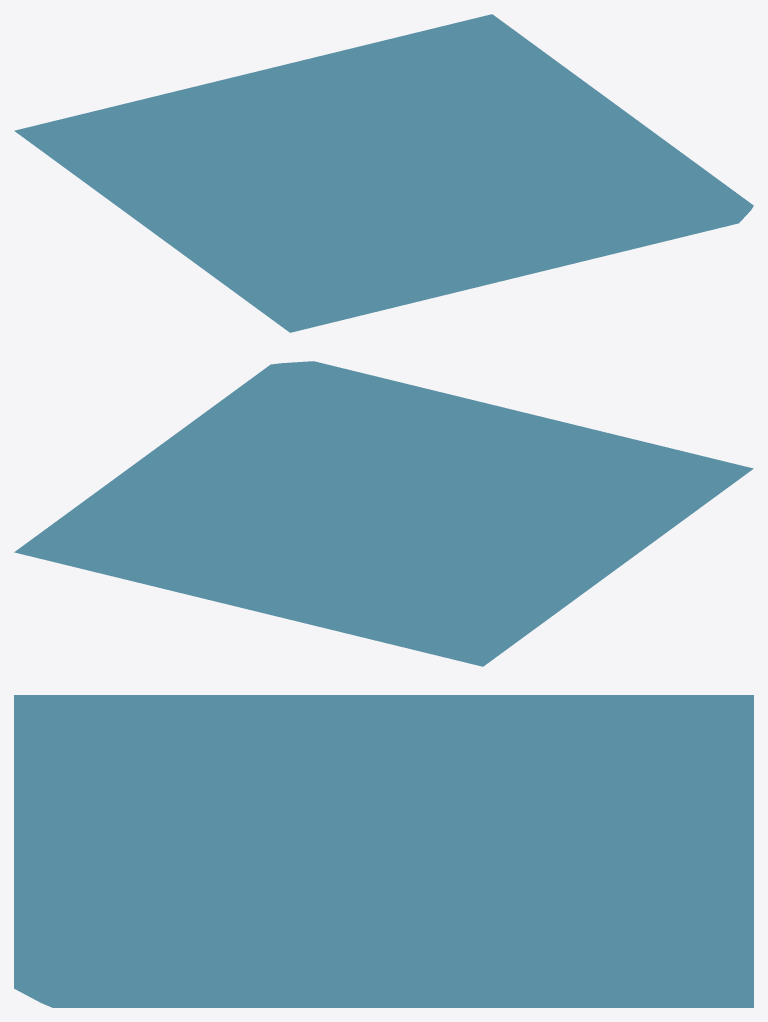
Rendered from nature_10_3.glb.
3 views of the same model, one above another, from view 1: azimuth 30°, elevation 25°; view 2: azimuth 150°, elevation 25°; view 3: azimuth 270°, elevation 25° (orthographic). The views are drawn at different scales.
Parts seen in each view (by area): view 1: water; view 2: water; view 3: water.
Boxes of the visible parts, x1,y1,x2,y2 form: water: (14,14,753,332); water: (14,361,753,666); water: (14,695,753,1007).
Bounding box in the file's own units: 250 × 0 × 250.
